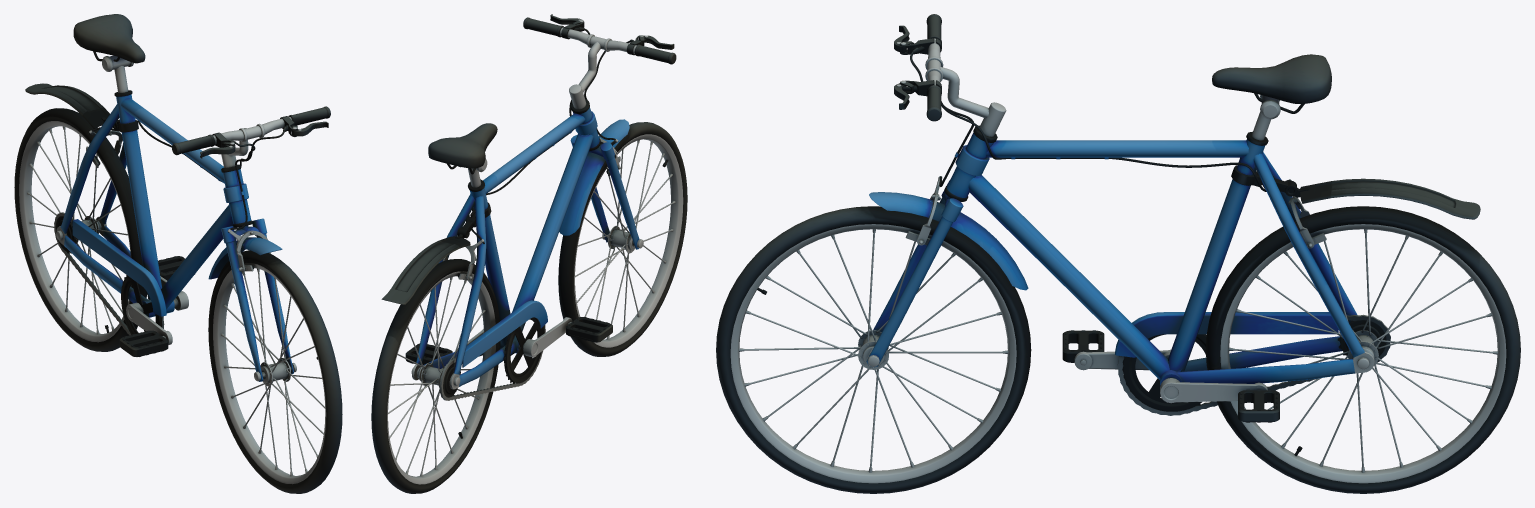
The model's file is bicycle.glb.
3 views of the same model, side by side, from view 1: azimuth 30°, elevation 25°; view 2: azimuth 150°, elevation 25°; view 3: azimuth 270°, elevation 25° (orthographic). The views are drawn at different scales.
Parts seen in each view (by area): view 1: bicycle.1; view 2: bicycle.1; view 3: bicycle.1.
Boxes of the visible parts, x1,y1,x2,y2 form: bicycle.1: (14, 14, 342, 493); bicycle.1: (371, 14, 687, 493); bicycle.1: (716, 14, 1520, 493).
Size of the model in its own units: 0.1453 by 0.3087 by 0.521.
1 material, 1 textured.
